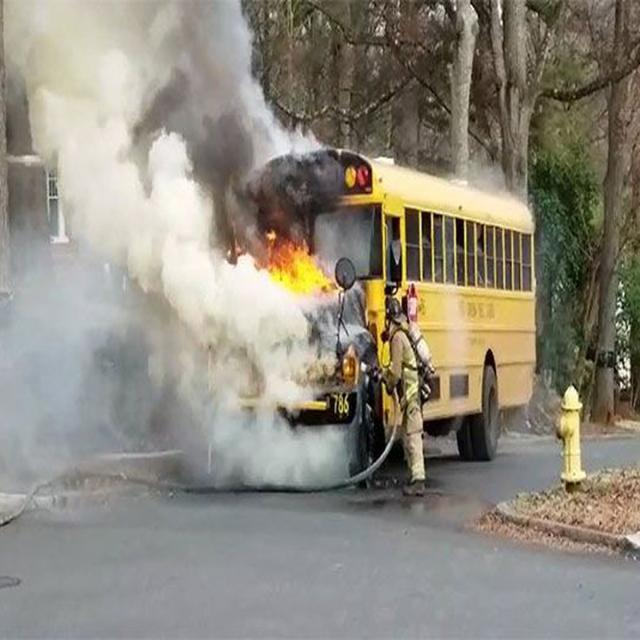Fire: (260, 226, 334, 294)
Smoke: (0, 0, 357, 492)
